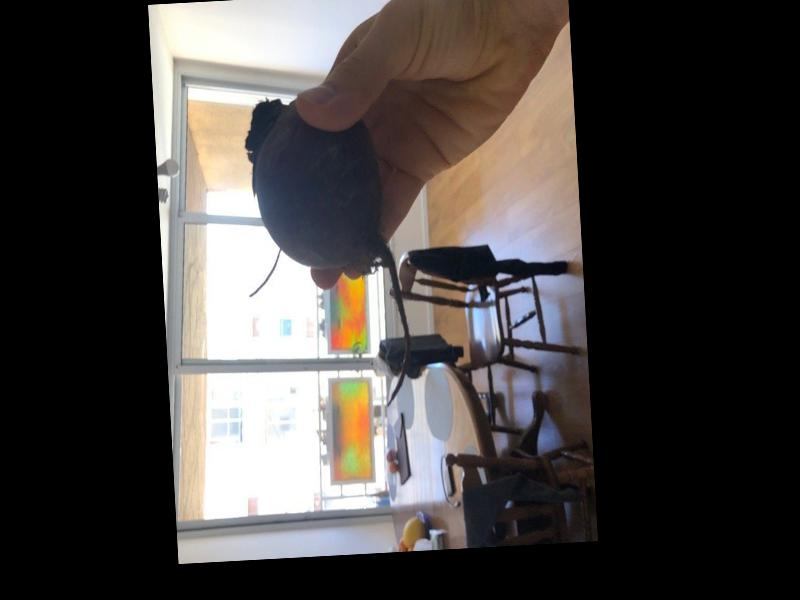Beet: (241, 93, 412, 413)
